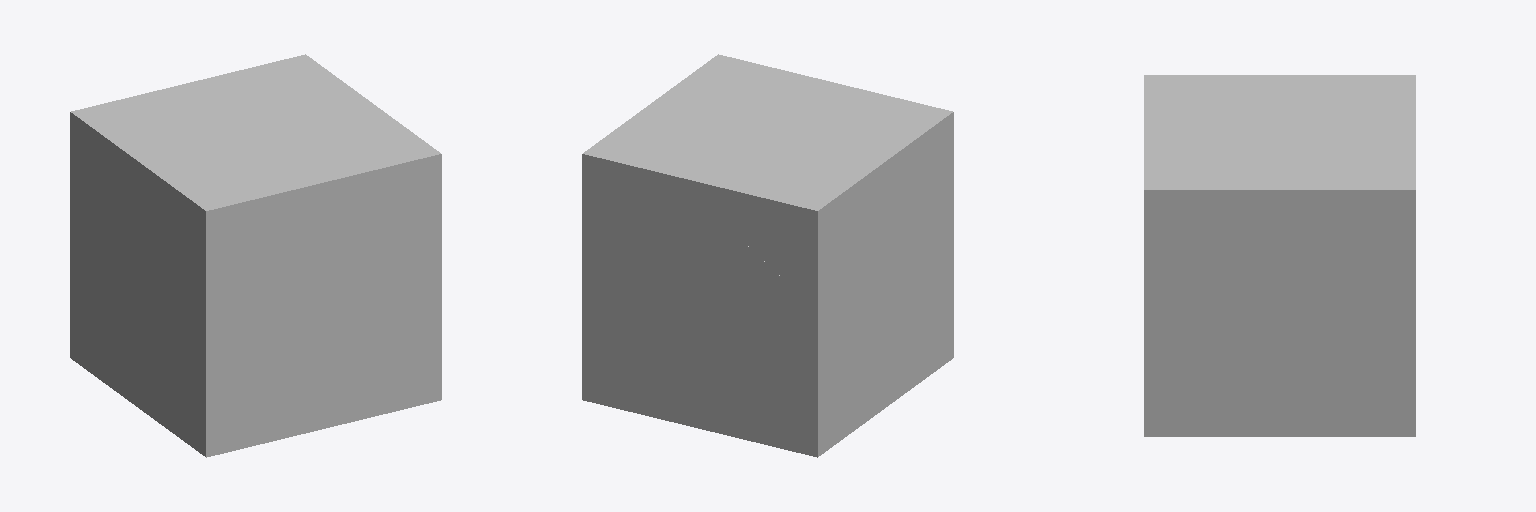
File: scene_odl.obj
The picture shows the model from 3 angles: view 1: azimuth 30°, elevation 25°; view 2: azimuth 150°, elevation 25°; view 3: azimuth 270°, elevation 25°; orthographic projection.
Size of the model in its own units: 2 by 2 by 2.